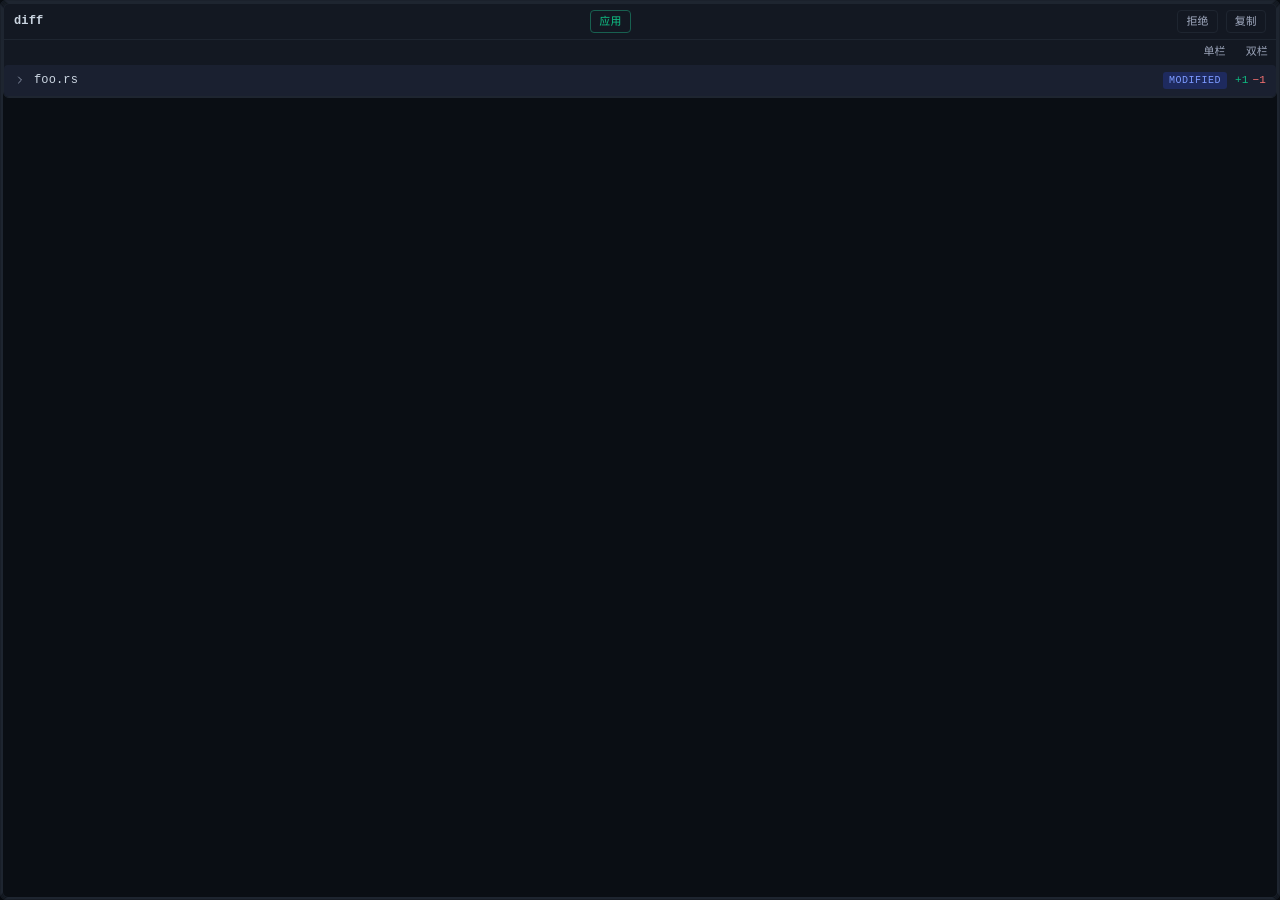
Test: DiffPrimitive — Apply button (B9+ D4) › surfaces success as a toast + 「已应用」 tag + disables buttons
What coordinates should you click on to do the following:
click the button with class "ui-prim__apply"
I would click on:
 (610, 22)
Its box is [590,10,631,33].
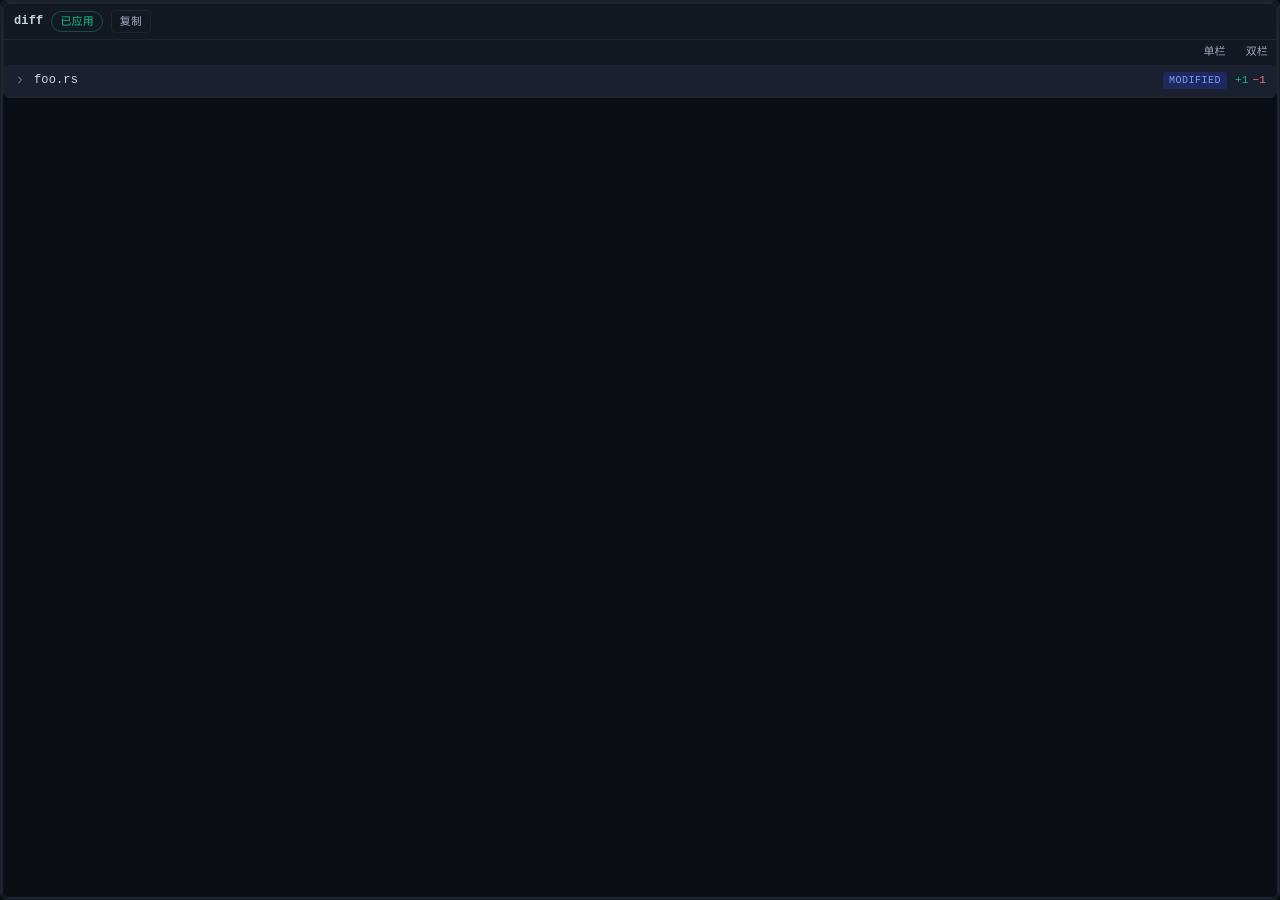
Expected: the text "已应用" is shown, [51,11,103,32]
